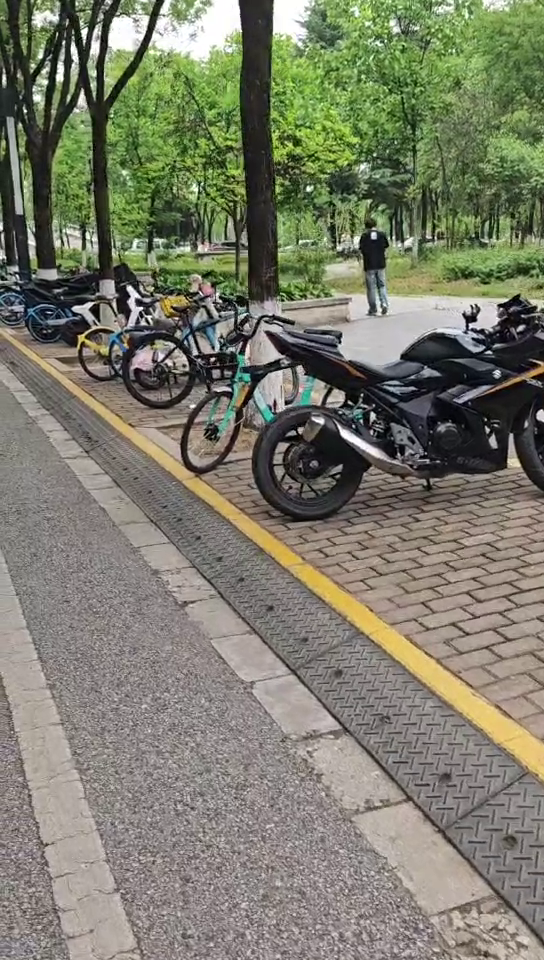others: (277, 335, 544, 523), (132, 293, 275, 404)
shared_bike_qingcong: (188, 297, 351, 478)
